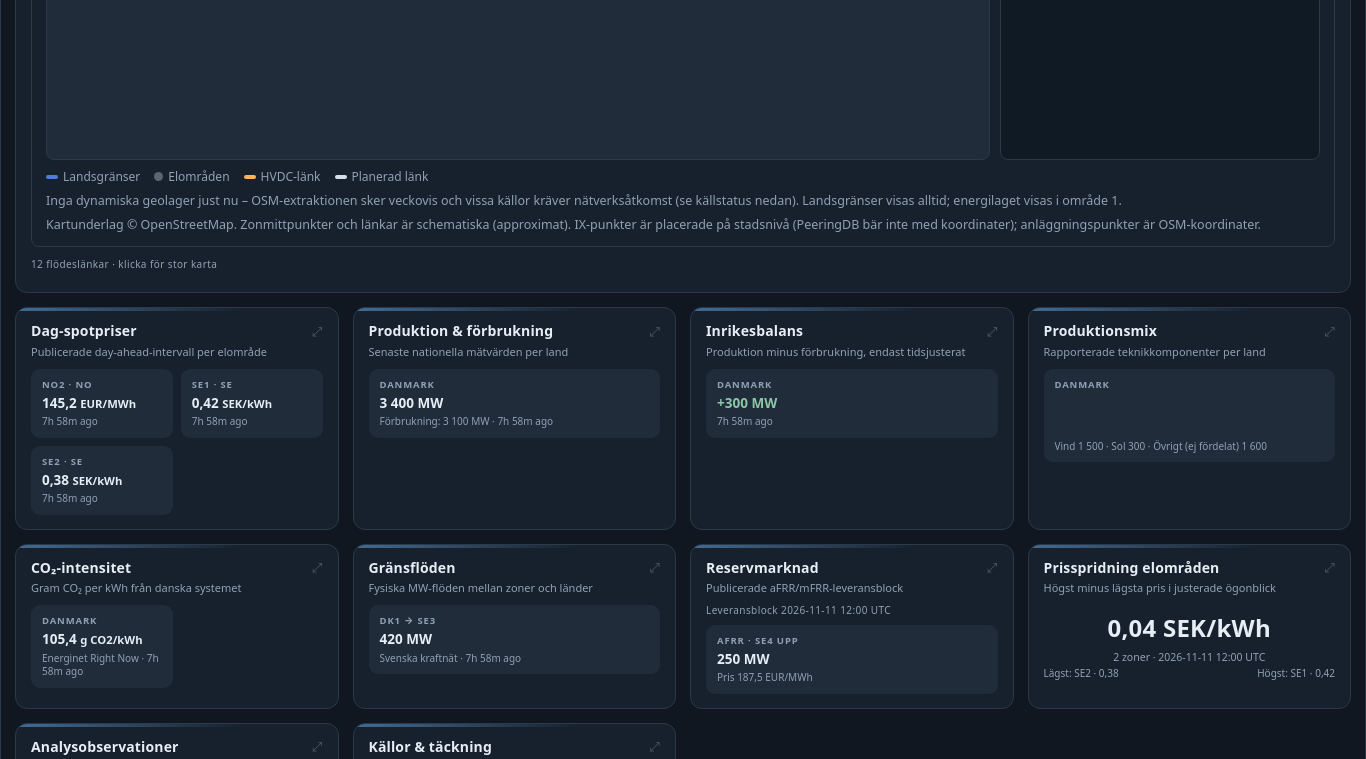
it: Energiwidget-dashboarden › klick på en elområdescell öppnar modalen filtrerad på zonen
(page scrolled)
Expected: the heading "Dag-spotpriser" is shown, [31,321,137,342]
Click the text "SE1 · SE": coordinates (212, 385) [192,378,233,392]
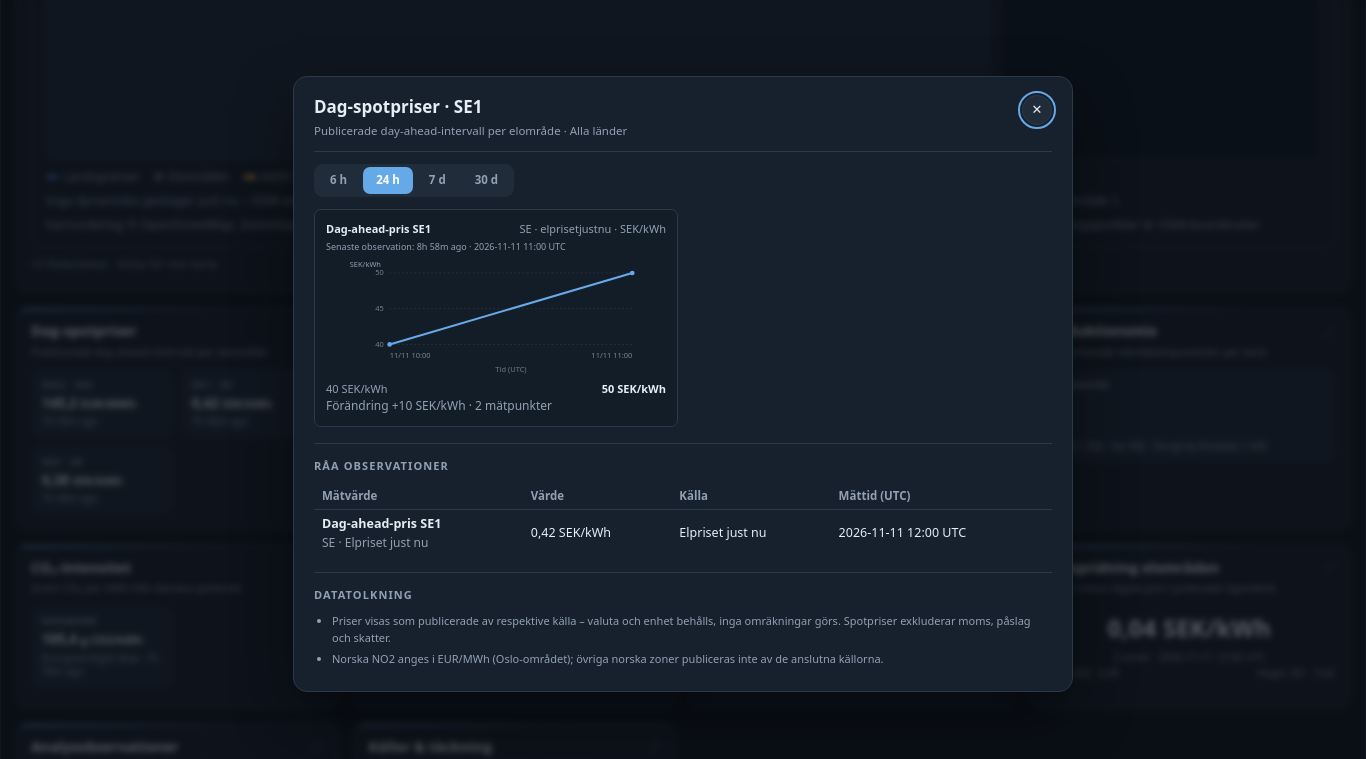
Expected: the dialog shows "· SE1", [293,76,1073,692]
